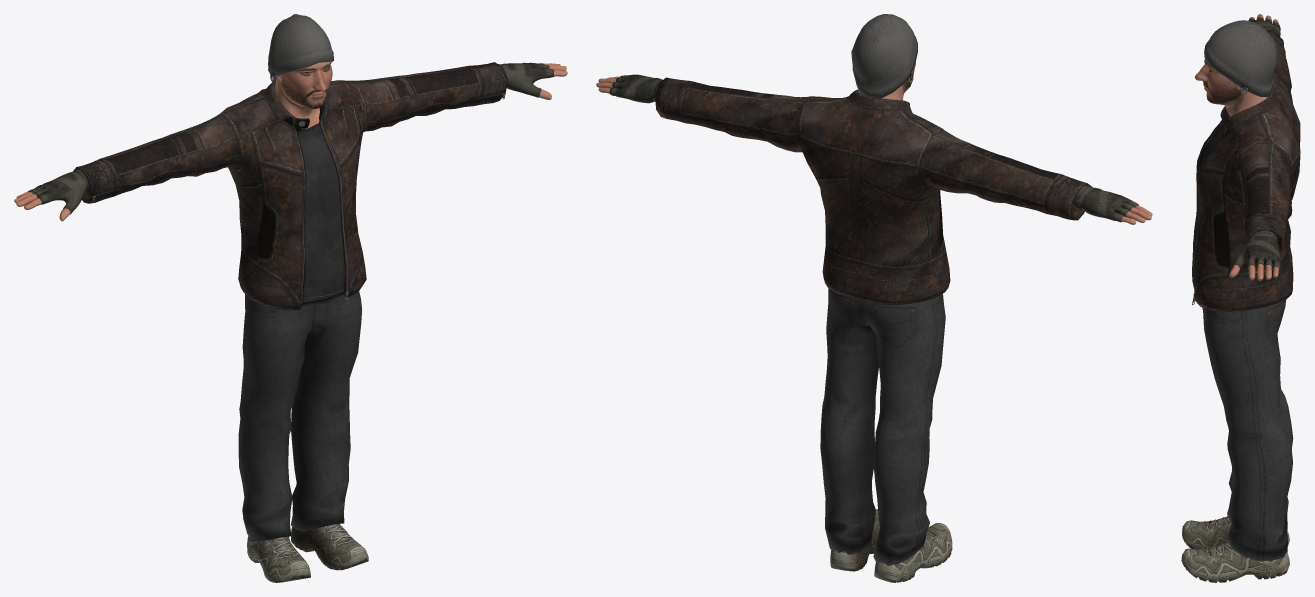
Rendered from Person.obj.
3 views of the same model, side by side, from view 1: azimuth 30°, elevation 25°; view 2: azimuth 150°, elevation 25°; view 3: azimuth 270°, elevation 25° (orthographic).
Visible parts, largest first — view 1: Tops, Bottoms, Shoes, Body, Hats, Gloves; view 2: Tops, Bottoms, Hats, Shoes, Gloves, Body; view 3: Tops, Bottoms, Hats, Shoes, Body, Gloves.
Boxes of the visible parts, x1,y1,x2,y2 form: Tops: (74,62,508,310); Bottoms: (238,291,361,541); Shoes: (247,523,368,582); Body: (14,61,567,221); Hats: (268,14,333,81); Gloves: (28,62,554,214); Tops: (655,77,1092,304); Bottoms: (820,289,945,565); Hats: (851,14,917,98); Shoes: (830,509,952,582); Gloves: (609,74,1138,222); Body: (596,61,1152,224); Tops: (1192,30,1300,311); Bottoms: (1202,300,1293,561); Hats: (1204,20,1277,96); Shoes: (1181,515,1289,582); Body: (1194,14,1278,280); Gloves: (1232,17,1280,270).
Size of the model in its own units: 194 by 183 by 36.67.
6 materials, 6 textured.
